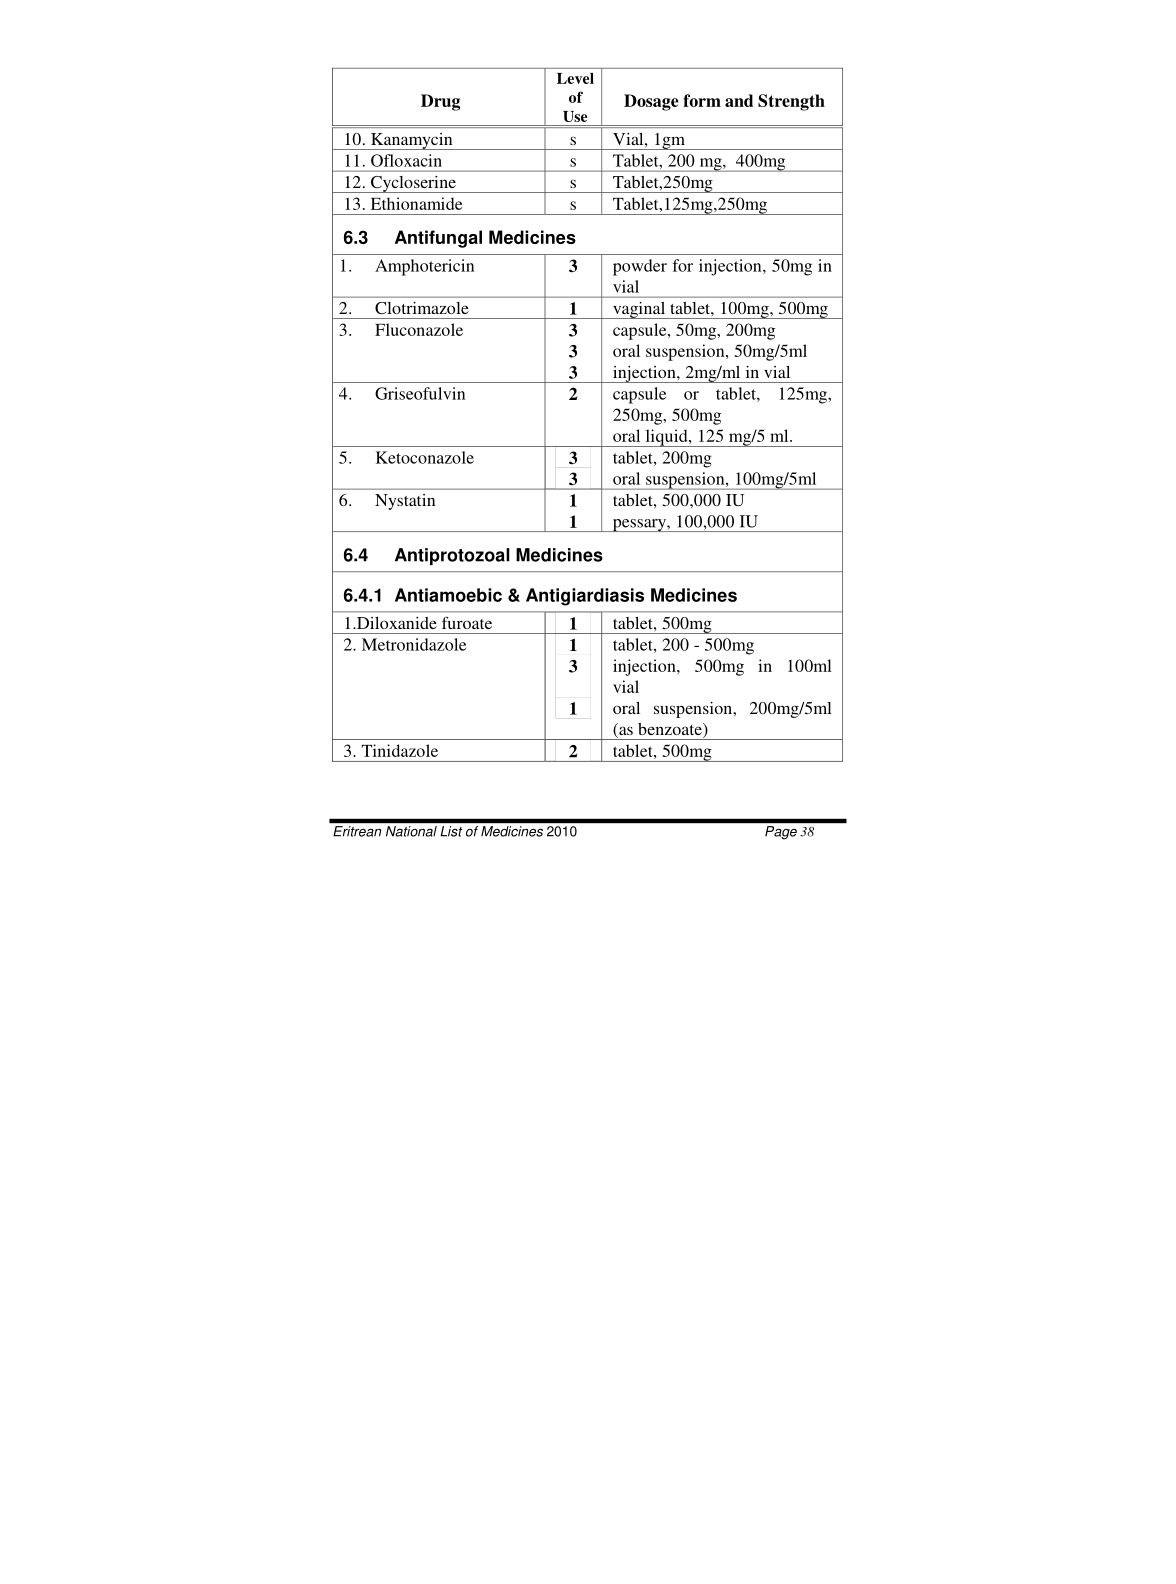merged_cells: (332, 67, 844, 764)
